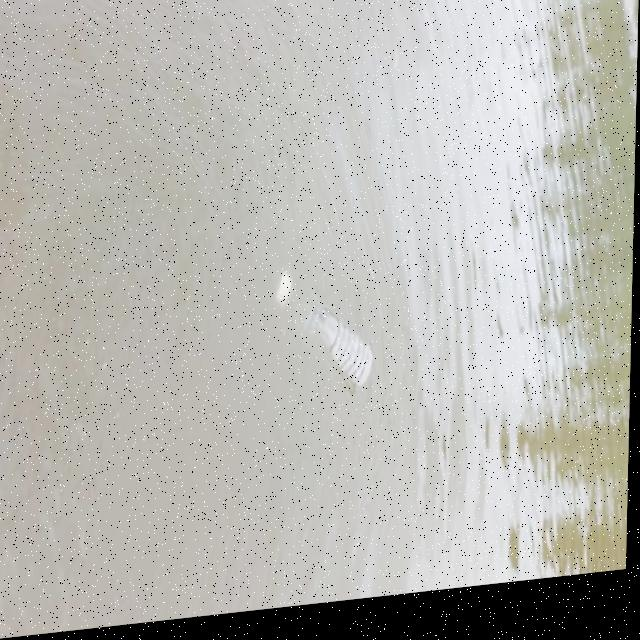waterbottle: (264, 264, 409, 412)
